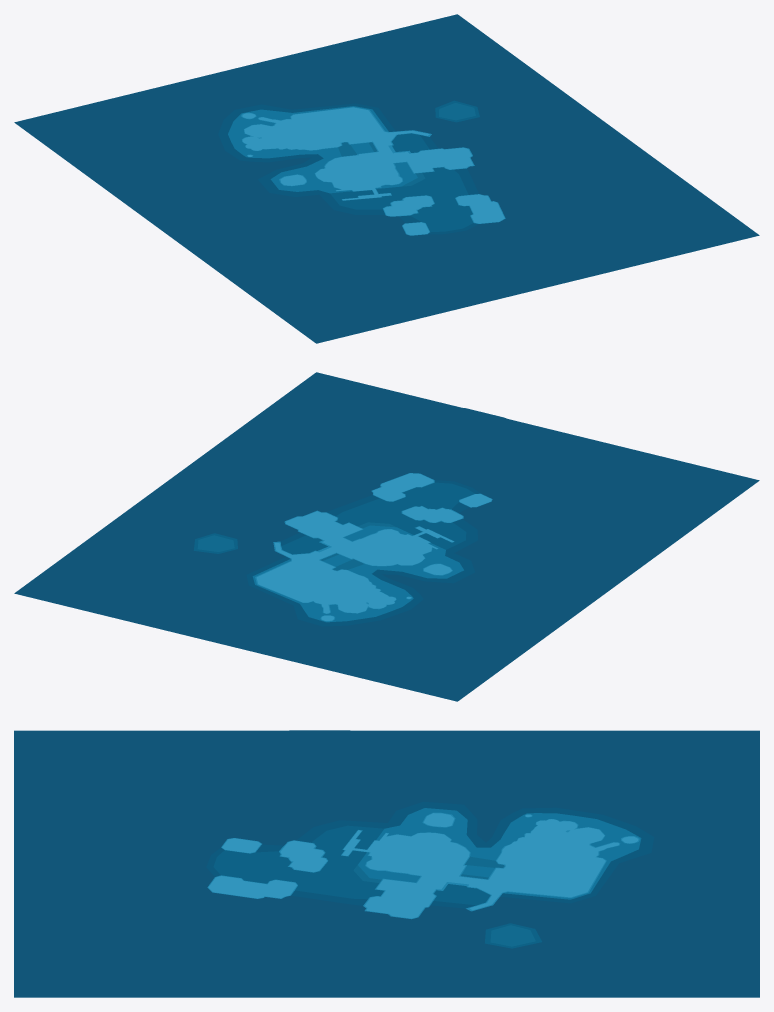
File: kd_stage_136599_14_0_bounded.glb
The picture shows the model from 3 angles, top to bottom: view 1: azimuth 30°, elevation 25°; view 2: azimuth 150°, elevation 25°; view 3: azimuth 270°, elevation 25°; orthographic projection. The views are drawn at different scales.
Visible parts, largest first — view 1: kd_stage_136599_14_0_bounded; view 2: kd_stage_136599_14_0_bounded; view 3: kd_stage_136599_14_0_bounded.
Boxes of the visible parts, x1,y1,x2,y2 form: kd_stage_136599_14_0_bounded: [14, 14, 759, 343]; kd_stage_136599_14_0_bounded: [14, 372, 759, 701]; kd_stage_136599_14_0_bounded: [14, 730, 759, 997].
Bounding box in the file's own units: 2059 × 2.23 × 2431.
1 material, 1 textured.
